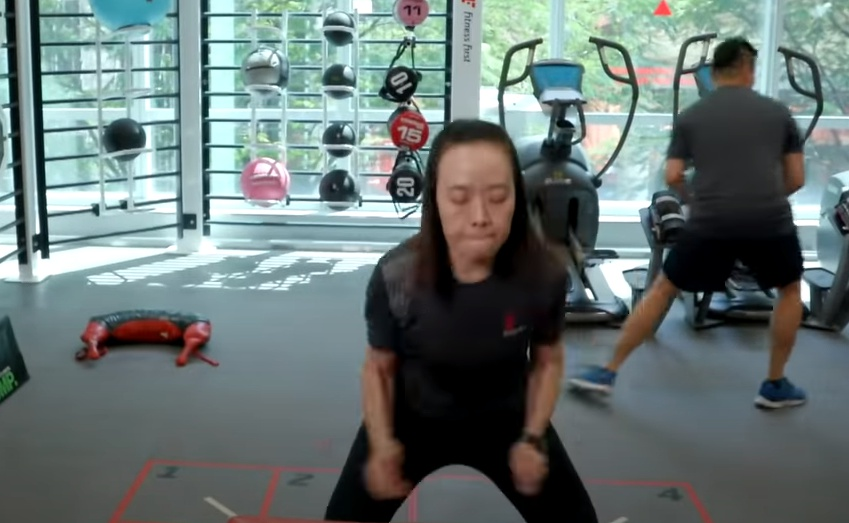mouth: (460, 233, 497, 243)
nose: (469, 215, 491, 229)
